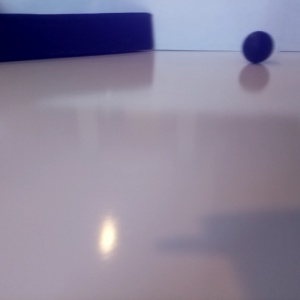zone: (1, 14, 153, 62)
